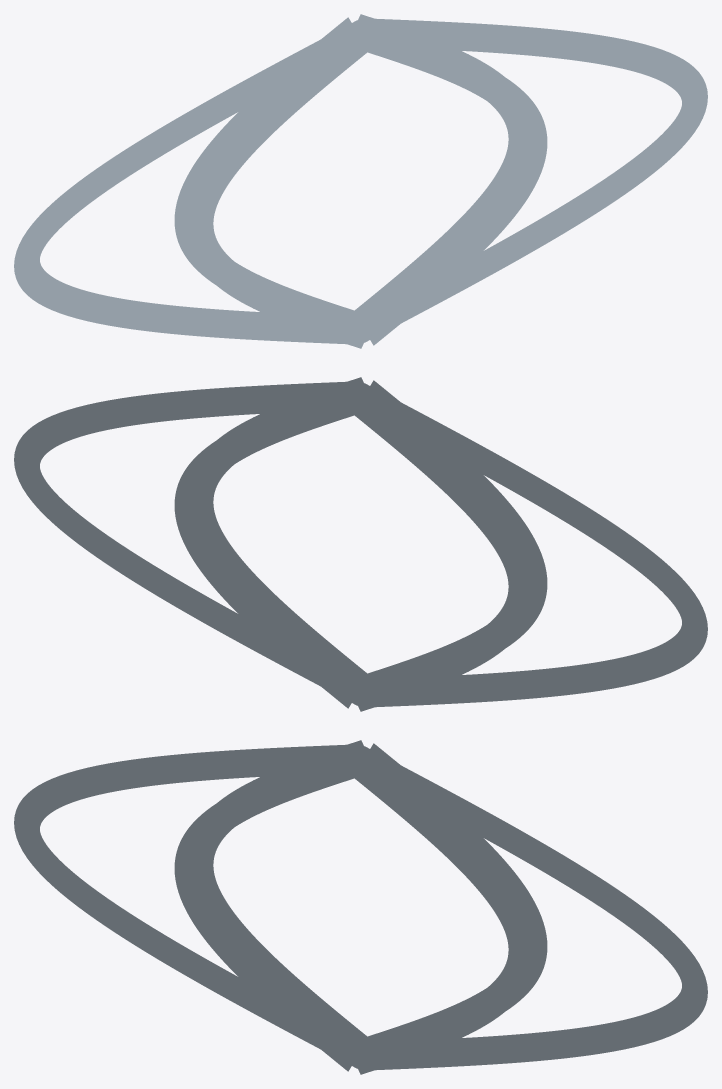
The model's file is Mona_ChargedAttack_OneChargedWaterDome.fbx.
3 views of the same model, one above another, from view 1: azimuth 30°, elevation 25°; view 2: azimuth 150°, elevation 25°; view 3: azimuth 330°, elevation 25° (orthographic).
Visible parts, largest first — view 1: PART_ChargedWaterDomeArch_3, PART_ChargedWaterDomeArch_0, PART_ChargedWaterDomeArch_4, PART_ChargedWaterDomeArch_5, PART_ChargedWaterDomeArch_1, PART_ChargedWaterDomeArch_2, PART_ChargedWaterDomeColdRidge_3, PART_ChargedWaterDomeColdRidge_0, PART_ChargedWaterDomeColdRidge_4, PART_ChargedWaterDomeColdRidge_5, PART_ChargedWaterDomeColdRidge_1; view 2: PART_ChargedWaterDomeArch_3, PART_ChargedWaterDomeArch_0, PART_ChargedWaterDomeArch_1, PART_ChargedWaterDomeArch_2, PART_ChargedWaterDomeArch_5, PART_ChargedWaterDomeArch_4, PART_ChargedWaterDomeColdRidge_3, PART_ChargedWaterDomeColdRidge_0, PART_ChargedWaterDomeColdRidge_1, PART_ChargedWaterDomeColdRidge_2, PART_ChargedWaterDomeColdRidge_5; view 3: PART_ChargedWaterDomeArch_0, PART_ChargedWaterDomeArch_3, PART_ChargedWaterDomeArch_4, PART_ChargedWaterDomeArch_5, PART_ChargedWaterDomeArch_2, PART_ChargedWaterDomeArch_1, PART_ChargedWaterDomeColdRidge_0, PART_ChargedWaterDomeColdRidge_3, PART_ChargedWaterDomeColdRidge_5, PART_ChargedWaterDomeColdRidge_4, PART_ChargedWaterDomeColdRidge_2.
Part boxes in pixels (left/top/right/bottom): PART_ChargedWaterDomeArch_3: left=14, top=20, right=363, bottom=344; PART_ChargedWaterDomeArch_0: left=361, top=18, right=707, bottom=342; PART_ChargedWaterDomeArch_4: left=187, top=27, right=373, bottom=348; PART_ChargedWaterDomeArch_5: left=361, top=24, right=547, bottom=345; PART_ChargedWaterDomeArch_1: left=350, top=14, right=521, bottom=316; PART_ChargedWaterDomeArch_2: left=174, top=17, right=354, bottom=313; PART_ChargedWaterDomeColdRidge_3: left=25, top=43, right=339, bottom=330; PART_ChargedWaterDomeColdRidge_0: left=363, top=30, right=696, bottom=290; PART_ChargedWaterDomeColdRidge_4: left=198, top=35, right=367, bottom=336; PART_ChargedWaterDomeColdRidge_5: left=366, top=36, right=536, bottom=328; PART_ChargedWaterDomeColdRidge_1: left=359, top=26, right=521, bottom=312; PART_ChargedWaterDomeArch_3: left=360, top=383, right=707, bottom=707; PART_ChargedWaterDomeArch_0: left=14, top=381, right=361, bottom=705; PART_ChargedWaterDomeArch_1: left=174, top=387, right=360, bottom=708; PART_ChargedWaterDomeArch_2: left=348, top=390, right=534, bottom=711; PART_ChargedWaterDomeArch_5: left=200, top=377, right=366, bottom=679; PART_ChargedWaterDomeArch_4: left=361, top=380, right=547, bottom=679; PART_ChargedWaterDomeColdRidge_3: left=380, top=404, right=696, bottom=693; PART_ChargedWaterDomeColdRidge_0: left=25, top=393, right=358, bottom=648; PART_ChargedWaterDomeColdRidge_1: left=186, top=399, right=354, bottom=698; PART_ChargedWaterDomeColdRidge_2: left=355, top=399, right=523, bottom=700; PART_ChargedWaterDomeColdRidge_5: left=200, top=500, right=345, bottom=670; PART_ChargedWaterDomeArch_0: left=357, top=746, right=707, bottom=1070; PART_ChargedWaterDomeArch_3: left=14, top=744, right=360, bottom=1068; PART_ChargedWaterDomeArch_4: left=174, top=750, right=360, bottom=1071; PART_ChargedWaterDomeArch_5: left=348, top=753, right=534, bottom=1074; PART_ChargedWaterDomeArch_2: left=200, top=740, right=371, bottom=1042; PART_ChargedWaterDomeArch_1: left=361, top=743, right=547, bottom=1042; PART_ChargedWaterDomeColdRidge_0: left=383, top=770, right=696, bottom=1055; PART_ChargedWaterDomeColdRidge_3: left=25, top=756, right=357, bottom=1016; PART_ChargedWaterDomeColdRidge_5: left=355, top=761, right=523, bottom=1062; PART_ChargedWaterDomeColdRidge_4: left=185, top=762, right=354, bottom=1059; PART_ChargedWaterDomeColdRidge_2: left=200, top=752, right=362, bottom=1038.
Bounding box in the file's own units: 535 × 239 × 17.32.
